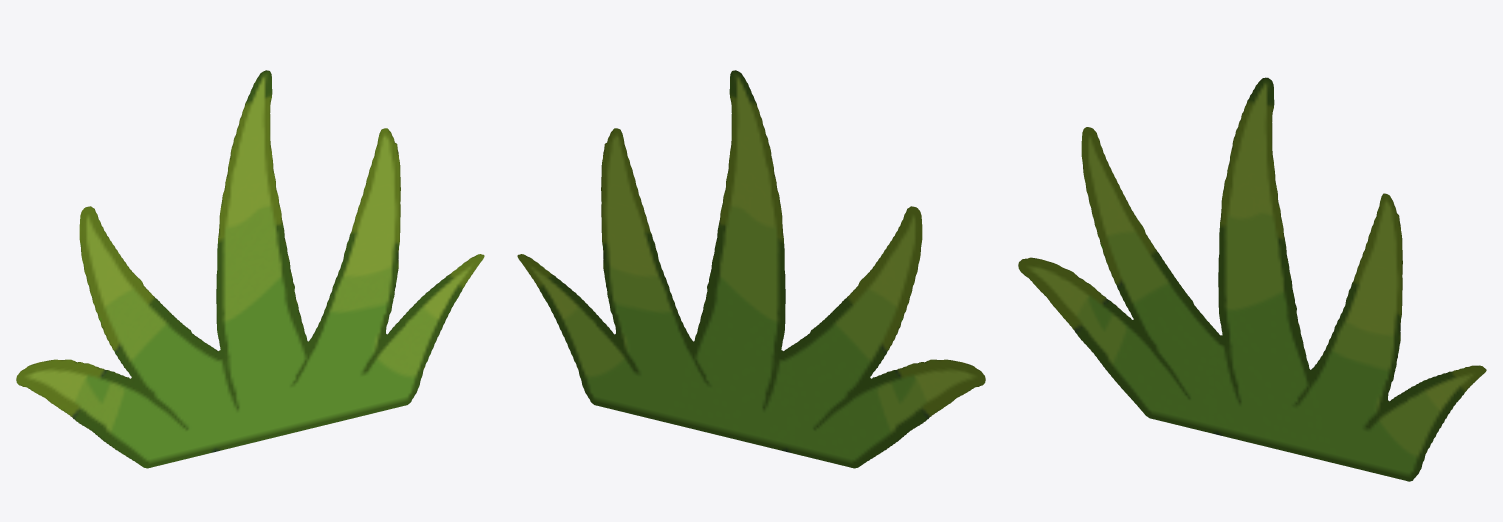
The model's file is CespedA.fbx.
The picture shows the model from 3 angles, left to right: view 1: azimuth 30°, elevation 25°; view 2: azimuth 150°, elevation 25°; view 3: azimuth 330°, elevation 25°; orthographic projection.
Visible parts, largest first — view 1: CespedA; view 2: CespedA; view 3: CespedA.
Part boxes in pixels (x1=…): CespedA: x1=16, y1=70, x2=484, y2=468; CespedA: x1=517, y1=70, x2=985, y2=468; CespedA: x1=1018, y1=77, x2=1486, y2=481.
Bounding box in the file's own units: 0.452 × 0.3462 × 1.51e-08.
